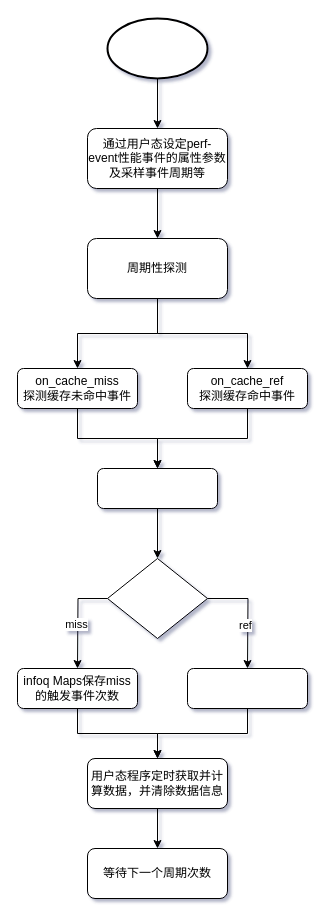
Image size: 331x922. Some labels were removed from this diagram. The shapes that lost their labels are listed below. From the top down, each one's centre as x and y in pixels, then its label:
At (157,48): "BPF程序载入".
At (157,488): "trace_event处理函数记录缓存行访问计数".
At (157,598): "通过cpu、pid和tid确定一个key".
At (247,688): "infoq Maps保存ref的触发事件次数".
